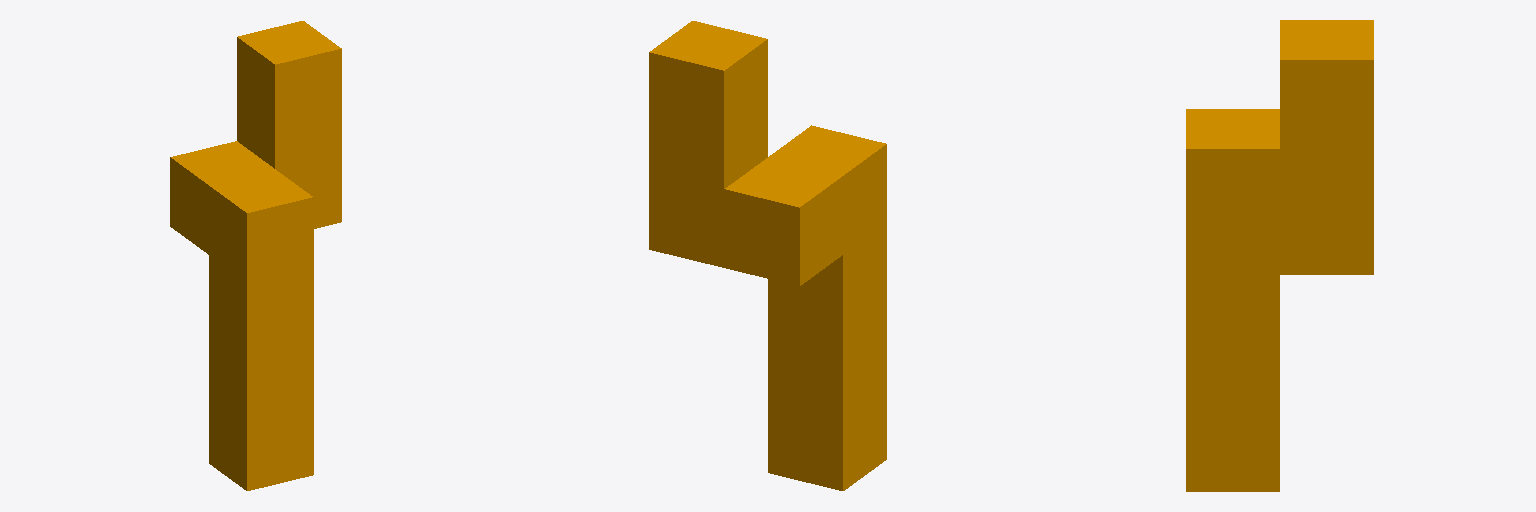
The robot description file, URDF, robot "robot_mesh":
<?xml version="1.0"?>
	<robot name="robot_mesh">
		<link name="base_link">
                  <visual>
                    <origin rpy="0 0 0" xyz="0 0 0"/>
                    <geometry>
                      <mesh filename="package://hpp_tutorial/meshes/robot_3angles.stl"/>
                    </geometry>
                  </visual>
                  <collision> 
                    <origin rpy="0 0 0" xyz="0 0 0"/>
                    <geometry>
                      <mesh filename="package://hpp_tutorial/meshes/robot_3angles.stl"/>
                    </geometry>
                  </collision> 
		</link>
	</robot>

--- What the picture shows (computed from the rendered views, not written in the file) ---
The picture shows the robot from 3 angles, left to right: view 1: azimuth 30°, elevation 25°; view 2: azimuth 150°, elevation 25°; view 3: azimuth 270°, elevation 25°; orthographic projection.
Model robot_mesh with 1 links and 0 joints (none), rooted at base_link, posed all joints at 0.
Links seen in each view (by area): view 1: base_link; view 2: base_link; view 3: base_link.
Link boxes in pixels (box(x1,y1,x2,y2)): base_link: box(170, 21, 341, 490); base_link: box(649, 21, 886, 490); base_link: box(1186, 20, 1373, 491).
Size in the robot's own frame: 0.08 by 0.08 by 0.22 metres.
1 mesh visuals loaded from 1 distinct referenced files (1 binary STL).